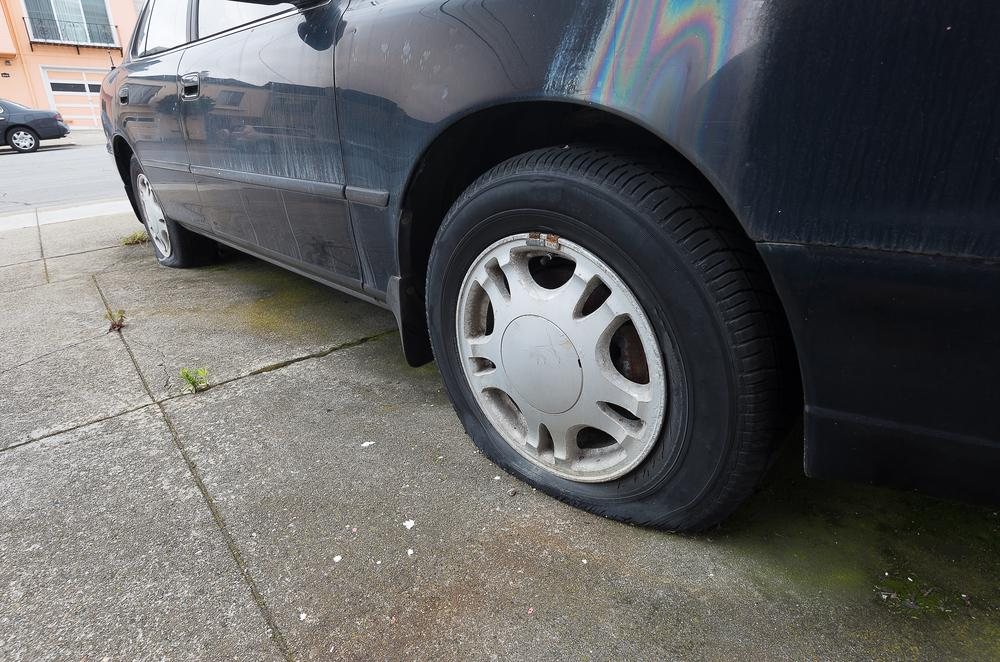tire flat: (424, 142, 779, 531), (129, 155, 215, 265)
